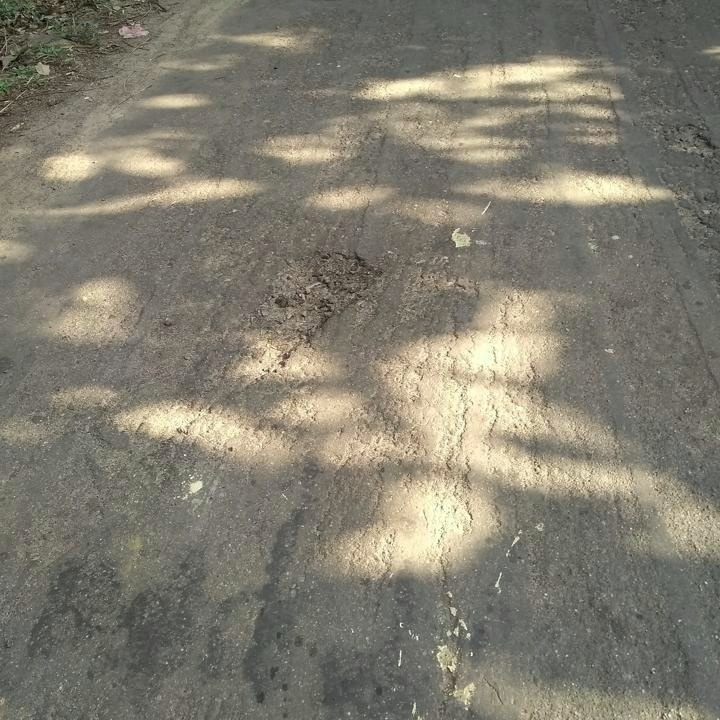pothole: (252, 244, 383, 381), (661, 120, 718, 160)
